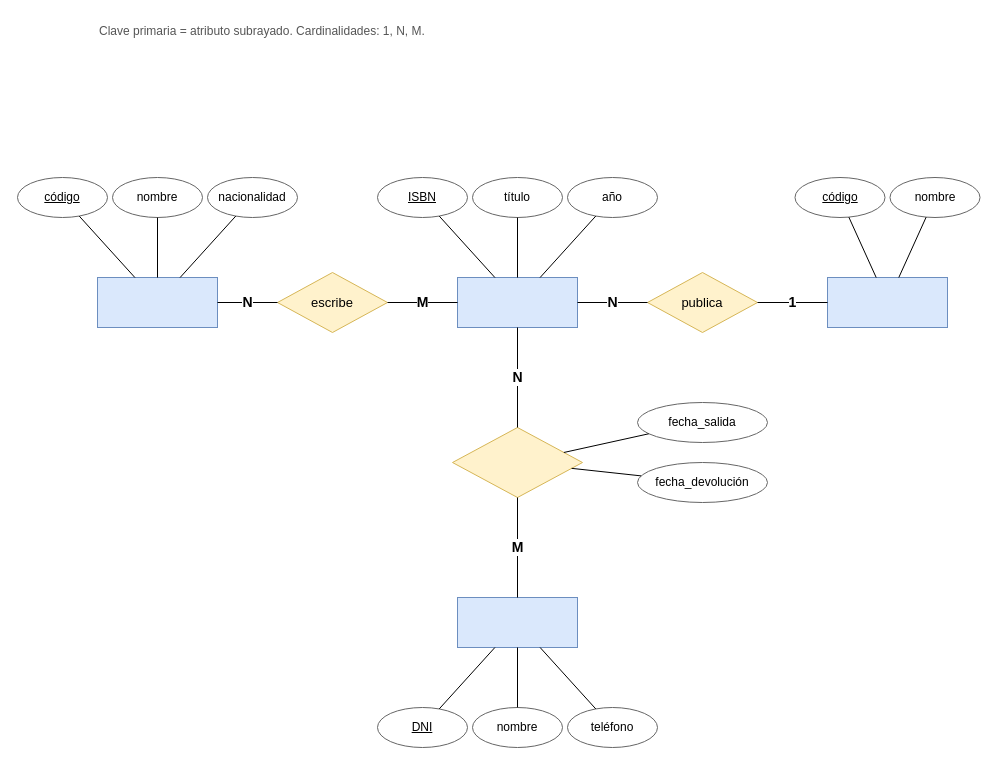
Image size: 998x765. Some labels were removed from this diagram. The centre of each missing label's shape, as x and y in pixels:
"AUTOR" goes at (x=157, y=302).
"EDITORIAL" goes at (x=887, y=302).
"LIBRO" goes at (x=517, y=302).
"pide prestado" goes at (x=517, y=462).
"SOCIO" goes at (x=517, y=622).
